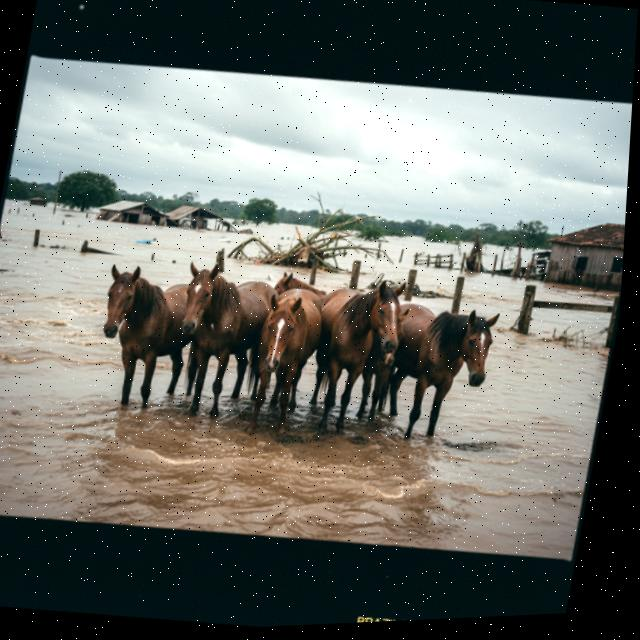horse: (78, 251, 223, 426), (155, 253, 290, 436), (369, 289, 507, 454), (297, 270, 414, 449), (238, 274, 332, 445), (350, 297, 417, 433), (269, 268, 348, 308)
